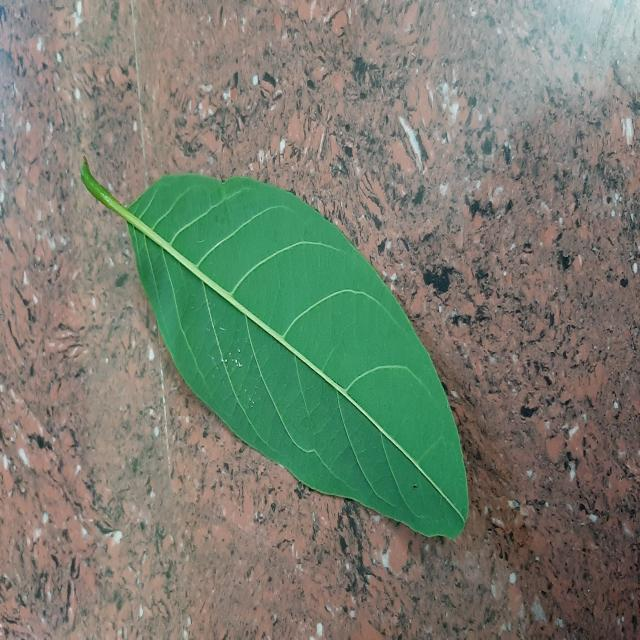seethaphala: (81, 160, 469, 539)
